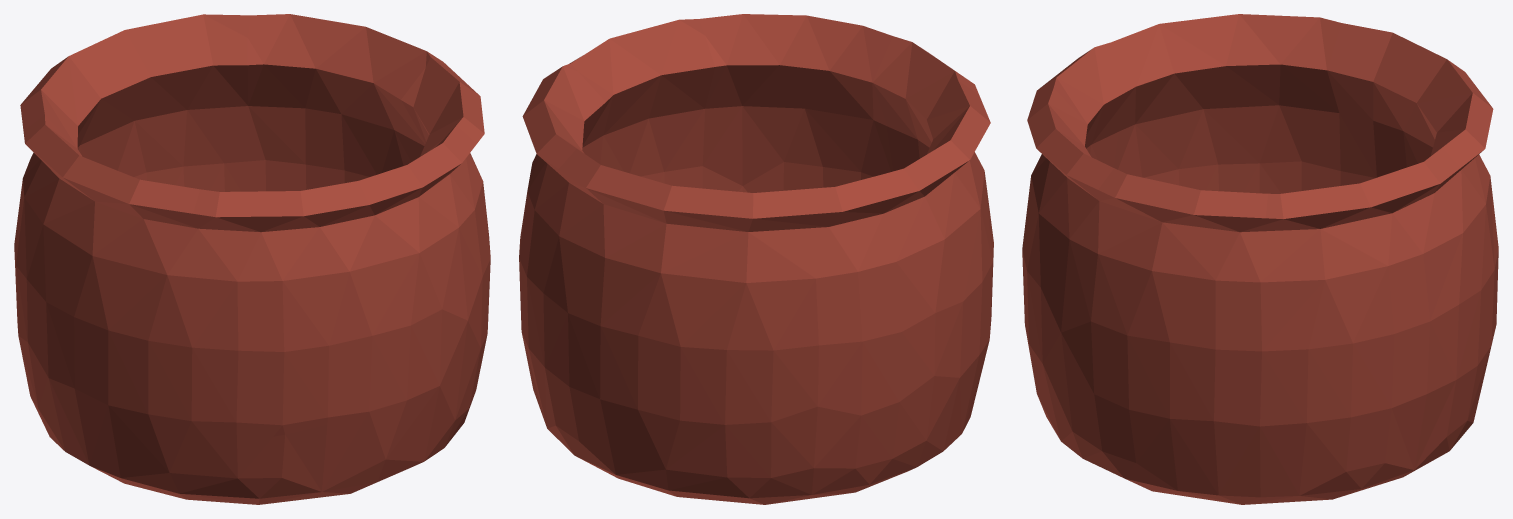
Rendered from Pottery 6_1b.fbx.
The picture shows the model from 3 angles, left to right: view 1: azimuth 30°, elevation 25°; view 2: azimuth 150°, elevation 25°; view 3: azimuth 270°, elevation 25°; orthographic projection.
Visible parts, largest first — view 1: Pottery 6_1b.006, Pottery 6_1b.007, Pottery 6_1b.001, Pottery 6_1b, Pottery 6_1b.004, Pottery 6_1b.003, Pottery 6_1b.002, Pottery 6_1b.005; view 2: Pottery 6_1b.005, Pottery 6_1b.004, Pottery 6_1b, Pottery 6_1b.001, Pottery 6_1b.006, Pottery 6_1b.002, Pottery 6_1b.003, Pottery 6_1b.007; view 3: Pottery 6_1b.003, Pottery 6_1b.002, Pottery 6_1b.006, Pottery 6_1b, Pottery 6_1b.001, Pottery 6_1b.004, Pottery 6_1b.005, Pottery 6_1b.007.
Part boxes in pixels (x1=…): Pottery 6_1b.006: x1=16, y1=115, x2=199, y2=414; Pottery 6_1b.007: x1=148, y1=187, x2=368, y2=446; Pottery 6_1b.001: x1=320, y1=125, x2=482, y2=411; Pottery 6_1b: x1=16, y1=295, x2=487, y2=504; Pottery 6_1b.004: x1=69, y1=14, x2=278, y2=191; Pottery 6_1b.003: x1=247, y1=14, x2=450, y2=191; Pottery 6_1b.002: x1=401, y1=57, x2=490, y2=348; Pottery 6_1b.005: x1=14, y1=56, x2=100, y2=316; Pottery 6_1b.005: x1=681, y1=174, x2=901, y2=424; Pottery 6_1b.004: x1=537, y1=149, x2=753, y2=415; Pottery 6_1b: x1=527, y1=186, x2=989, y2=504; Pottery 6_1b.001: x1=699, y1=14, x2=893, y2=192; Pottery 6_1b.006: x1=882, y1=80, x2=993, y2=409; Pottery 6_1b.002: x1=569, y1=19, x2=742, y2=191; Pottery 6_1b.003: x1=519, y1=63, x2=605, y2=368; Pottery 6_1b.007: x1=872, y1=36, x2=978, y2=170; Pottery 6_1b.003: x1=1237, y1=148, x2=1462, y2=460; Pottery 6_1b.002: x1=1061, y1=168, x2=1267, y2=421; Pottery 6_1b.006: x1=1111, y1=14, x2=1346, y2=193; Pottery 6_1b: x1=1025, y1=329, x2=1487, y2=504; Pottery 6_1b.001: x1=1022, y1=88, x2=1113, y2=363; Pottery 6_1b.004: x1=1416, y1=59, x2=1498, y2=394; Pottery 6_1b.005: x1=1327, y1=23, x2=1446, y2=184; Pottery 6_1b.007: x1=1033, y1=42, x2=1135, y2=167.
Bounding box in the file's own units: 51.71 × 39.4 × 51.68.
